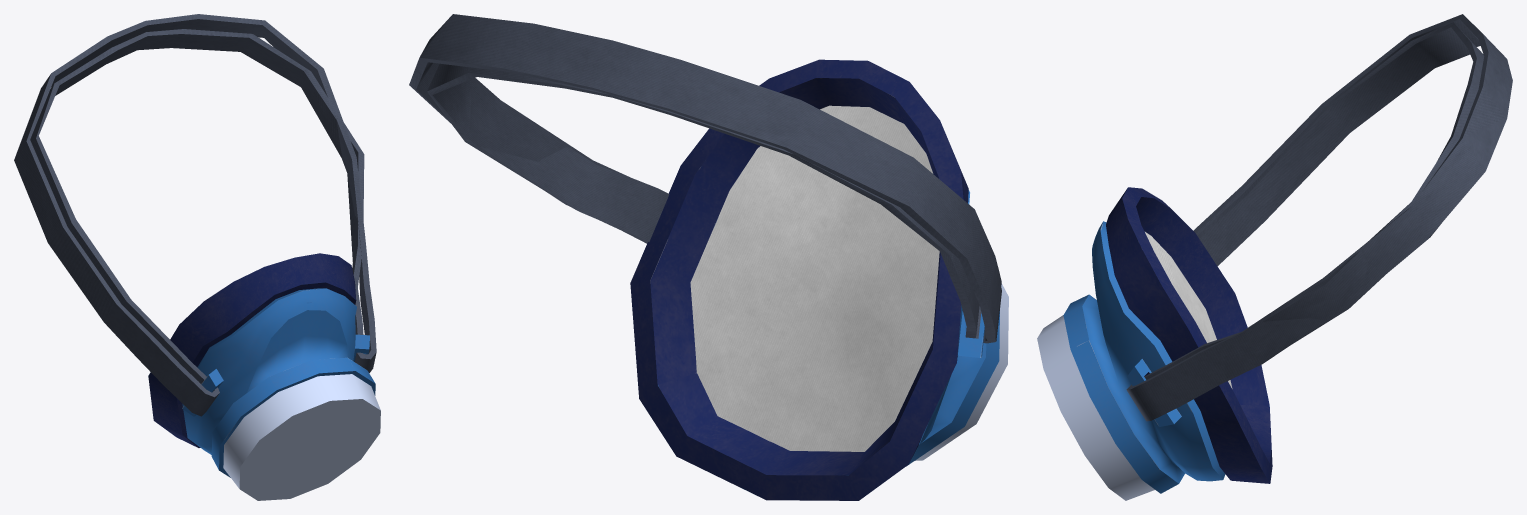
Rendered from canister_gas_mask.fbx.
3 renders of one model, left to right at view 1: azimuth 30°, elevation 25°; view 2: azimuth 150°, elevation 25°; view 3: azimuth 270°, elevation 25°, orthographic. The views are drawn at different scales.
Visible parts, largest first — view 1: canister_gas_mask_rubber, canister_gas_mask, canister_gas_mask_seal; view 2: canister_gas_mask, canister_gas_mask_rubber, canister_gas_mask_seal; view 3: canister_gas_mask, canister_gas_mask_rubber, canister_gas_mask_seal.
Boxes of the visible parts, <box> form: canister_gas_mask_rubber: <box>14,14,376,416</box>; canister_gas_mask: <box>148,253,375,477</box>; canister_gas_mask_seal: <box>223,374,380,500</box>; canister_gas_mask: <box>630,59,999,500</box>; canister_gas_mask_rubber: <box>409,14,1001,343</box>; canister_gas_mask_seal: <box>915,283,1008,460</box>; canister_gas_mask: <box>1063,187,1272,493</box>; canister_gas_mask_rubber: <box>1126,14,1512,421</box>; canister_gas_mask_seal: <box>1037,315,1154,500</box>.
Bounding box in the file's own units: 19.76 × 22.53 × 22.07.
3 materials, 3 textured.
